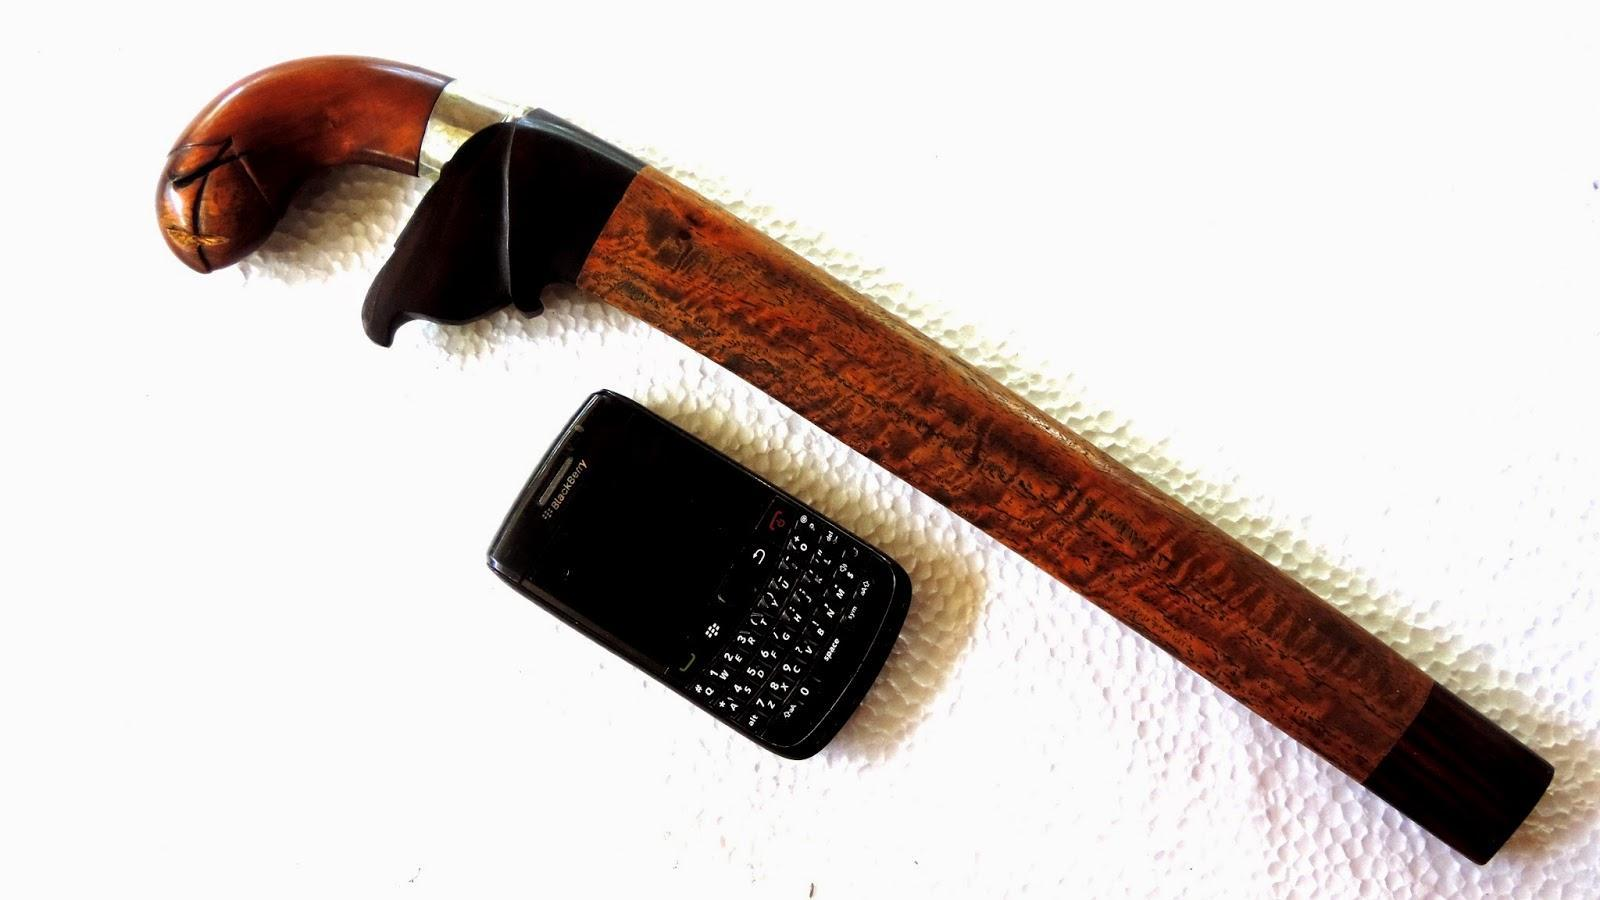facao: (157, 55, 1549, 862)
